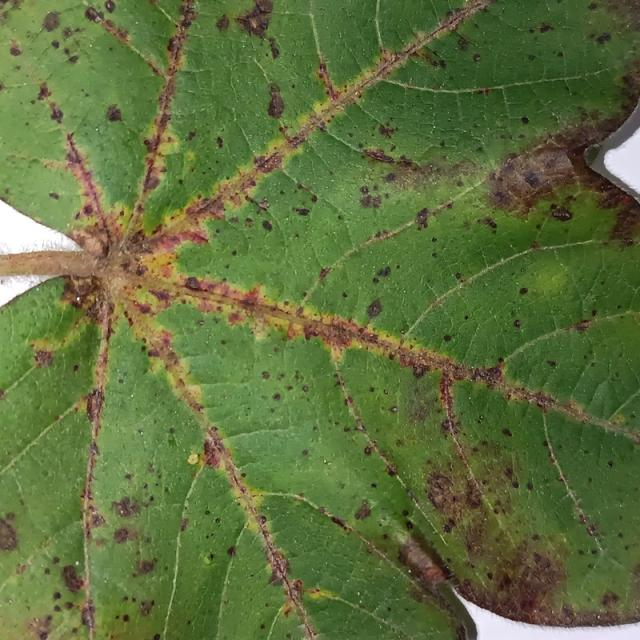Bacterial_Blight: (437, 449, 544, 566), (463, 539, 565, 619), (59, 133, 116, 248), (81, 1, 162, 73), (364, 149, 477, 199), (222, 175, 306, 237), (263, 551, 317, 633), (249, 361, 318, 416), (213, 0, 278, 51), (36, 10, 90, 66), (396, 538, 447, 585), (356, 47, 409, 92), (532, 213, 591, 250), (404, 372, 441, 429), (311, 316, 362, 351), (176, 241, 223, 276), (425, 470, 460, 513), (437, 368, 459, 436), (200, 430, 233, 471), (189, 192, 230, 221), (263, 545, 291, 586), (408, 199, 440, 234), (119, 227, 151, 261), (357, 180, 391, 209), (469, 361, 505, 388), (360, 146, 407, 166), (316, 59, 337, 99), (110, 496, 141, 521), (61, 563, 85, 595), (85, 389, 103, 430), (0, 515, 19, 553), (26, 614, 53, 640), (254, 151, 283, 174), (267, 83, 285, 119), (33, 348, 54, 369), (135, 557, 157, 577), (42, 11, 62, 32), (365, 297, 383, 319), (354, 500, 371, 521), (106, 104, 124, 123), (550, 206, 572, 221), (529, 22, 554, 35), (81, 606, 95, 629), (601, 591, 619, 608), (113, 527, 130, 545), (37, 82, 53, 101), (378, 123, 397, 139), (85, 6, 102, 23), (48, 105, 64, 123), (144, 174, 160, 192), (253, 0, 273, 14), (139, 599, 154, 617), (184, 276, 202, 291), (215, 14, 230, 31), (227, 311, 244, 326), (478, 217, 497, 230), (90, 513, 106, 528), (595, 32, 612, 45), (525, 172, 540, 186), (376, 265, 391, 278), (411, 365, 426, 378), (9, 44, 22, 57), (104, 0, 116, 13), (204, 553, 216, 566), (166, 435, 178, 448), (227, 545, 237, 557), (622, 237, 635, 246), (386, 467, 397, 477), (385, 172, 396, 182), (438, 59, 448, 69), (49, 191, 60, 200), (364, 445, 373, 456), (216, 136, 224, 148), (502, 428, 512, 437), (472, 53, 481, 63), (53, 591, 62, 601), (261, 370, 270, 379), (51, 40, 60, 49), (519, 287, 529, 295), (520, 116, 530, 124), (526, 482, 534, 491), (443, 334, 452, 342), (272, 393, 281, 401), (513, 319, 521, 328), (389, 405, 398, 413), (360, 186, 369, 194), (607, 460, 614, 468), (301, 449, 309, 456), (220, 339, 227, 345)
Cotton: (0, 0, 639, 639)
